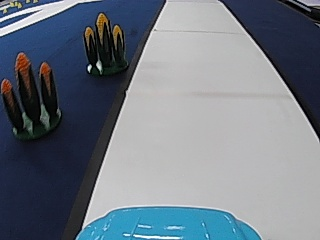corn: (3, 50, 64, 139), (81, 10, 129, 74)
